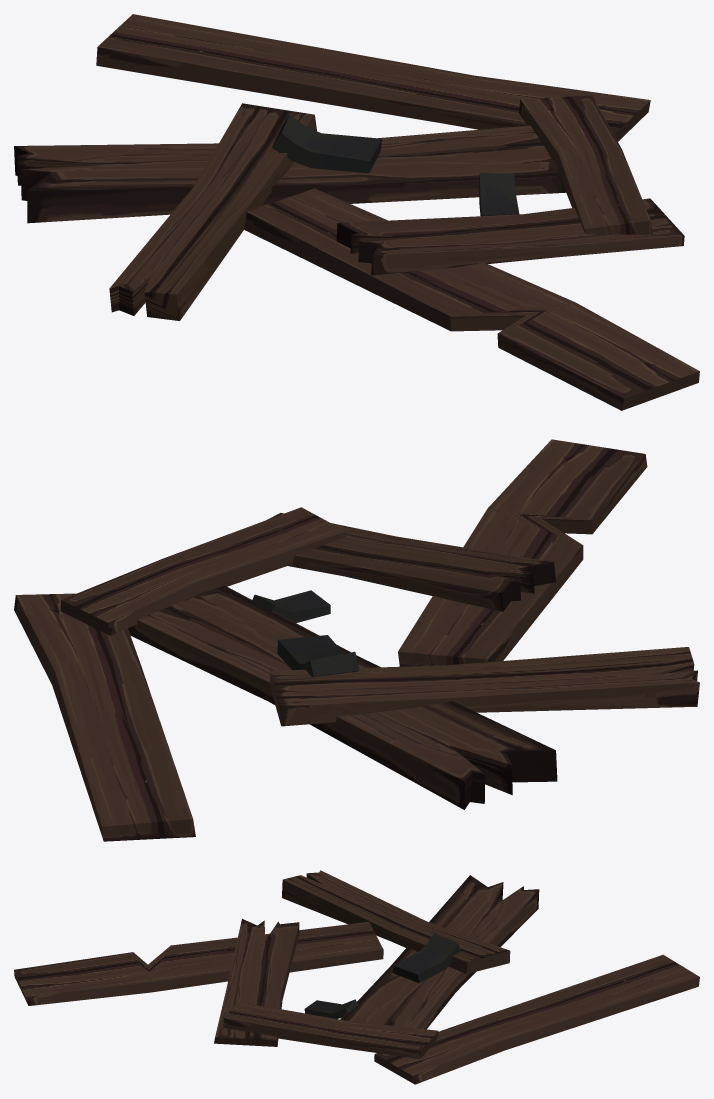
Rendered from SM_PROP_debris_battle_03.fbx.
3 renders of one model, top to bottom at view 1: azimuth 30°, elevation 25°; view 2: azimuth 150°, elevation 25°; view 3: azimuth 270°, elevation 25°, orthographic. The views are drawn at different scales.
Parts seen in each view (by area): view 1: SM_PROP_debris_battle_03; view 2: SM_PROP_debris_battle_03; view 3: SM_PROP_debris_battle_03.
Part boxes in pixels (<box>): SM_PROP_debris_battle_03: <box>14,14,699,410</box>; SM_PROP_debris_battle_03: <box>14,439,699,841</box>; SM_PROP_debris_battle_03: <box>14,870,699,1084</box>.
Size of the model in its own units: 232 by 20.05 by 339.
